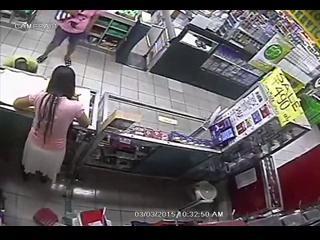Normal: (13, 65, 90, 191), (36, 10, 100, 66)
